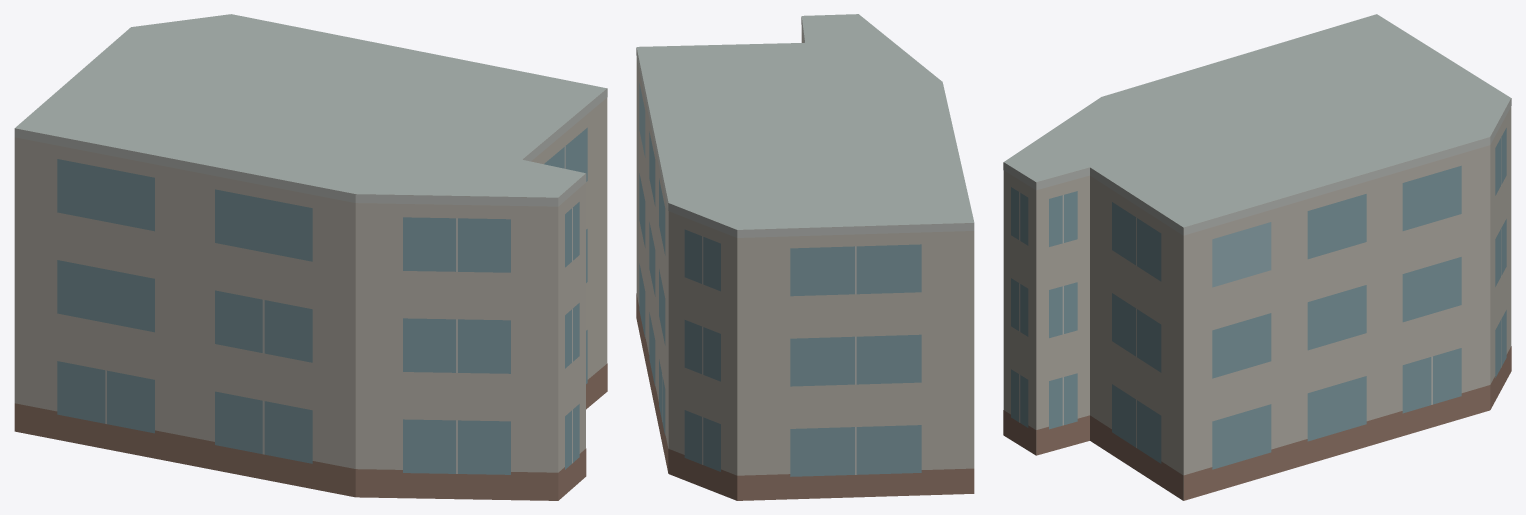
The model's file is survey-upis-32890254.glb.
3 views of the same model, side by side, from view 1: azimuth 30°, elevation 25°; view 2: azimuth 150°, elevation 25°; view 3: azimuth 270°, elevation 25° (orthographic). The views are drawn at different scales.
Parts seen in each view (by area): view 1: survey-upis-32890254.tmp; view 2: survey-upis-32890254.tmp; view 3: survey-upis-32890254.tmp.
Boxes of the visible parts, bbox=[...] form: survey-upis-32890254.tmp: bbox=[14, 14, 607, 500]; survey-upis-32890254.tmp: bbox=[636, 14, 974, 500]; survey-upis-32890254.tmp: bbox=[1003, 14, 1511, 500].
Size of the model in its own units: 13.75 by 8.2 by 13.82.
